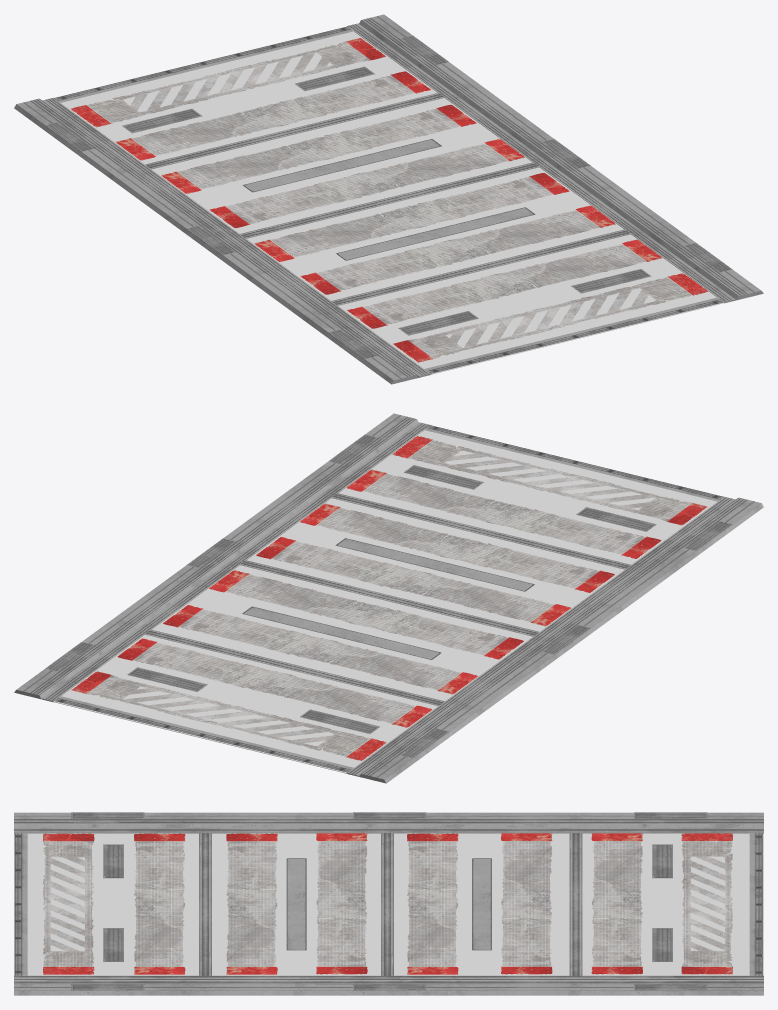
The model's file is CP_Pedestrian_Crossing_02.fbx.
The picture shows the model from 3 angles, top to bottom: view 1: azimuth 30°, elevation 25°; view 2: azimuth 150°, elevation 25°; view 3: azimuth 270°, elevation 25°; orthographic projection.
Visible parts, largest first — view 1: CP_Pedestrian_Crossing_02; view 2: CP_Pedestrian_Crossing_02; view 3: CP_Pedestrian_Crossing_02.
Boxes of the visible parts, bbox=[...] form: CP_Pedestrian_Crossing_02: bbox=[14, 14, 763, 384]; CP_Pedestrian_Crossing_02: bbox=[14, 413, 763, 783]; CP_Pedestrian_Crossing_02: bbox=[14, 812, 763, 995].
Bounding box in the file's own units: 456 × 4.25 × 800.
